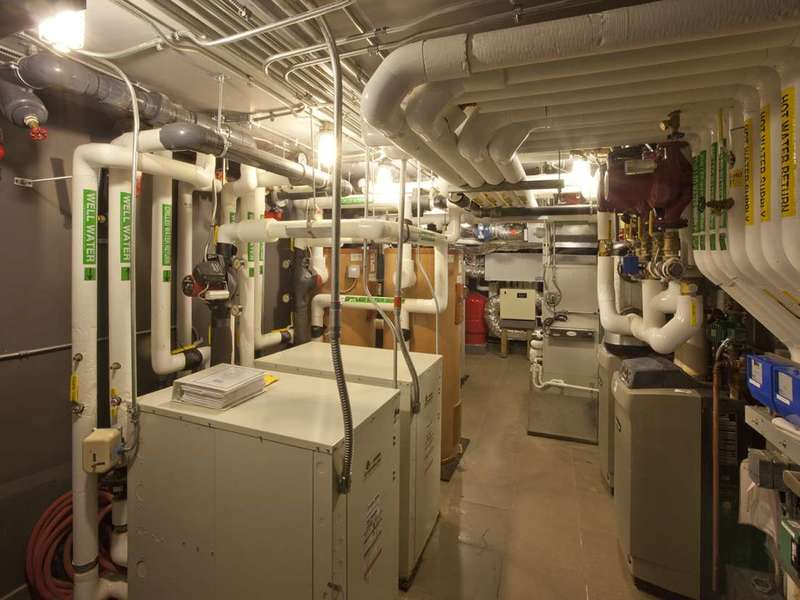valve: (61, 358, 95, 426), (711, 100, 738, 180), (102, 380, 135, 420), (621, 215, 642, 253), (646, 209, 668, 245), (632, 207, 648, 247)
